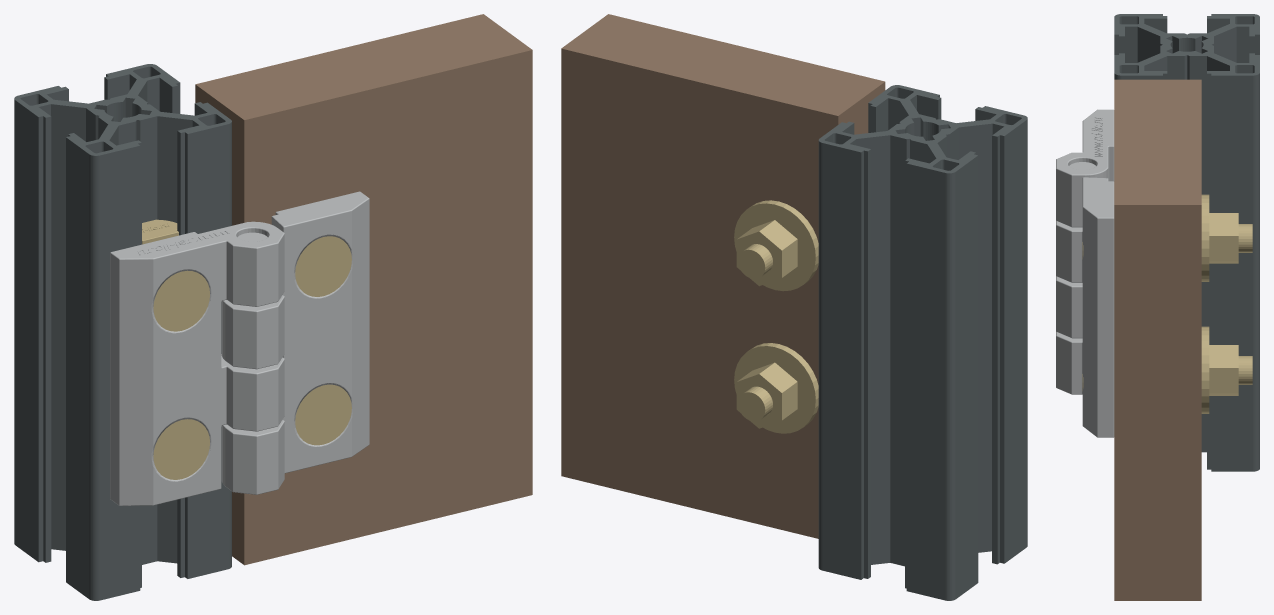
File: hinge-detail.glb
The picture shows the model from 3 angles, left to right: view 1: azimuth 30°, elevation 25°; view 2: azimuth 150°, elevation 25°; view 3: azimuth 270°, elevation 25°; orthographic projection. The views are drawn at different scales.
Visible parts, largest first — view 1: Left-door-face-18, Post-4-23, Left-hinge-1-3025-0, Left-hinge-1-3025-1, Left-profile-bolt-1--15, Left-panel-bolt-1--15, Left-panel-bolt-1-15, Left-profile-bolt-1-15, Left-profile-nut-1-15-5049-1; view 2: Left-door-face-18, Post-4-23, Left-panel-washer-1--15, Left-panel-washer-1-15, Left-panel-locknut-1--15, Left-panel-locknut-1-15, Left-panel-bolt-1--15, Left-panel-bolt-1-15; view 3: Left-door-face-18, Post-4-23, Left-hinge-1-3025-1, Left-hinge-1-3025-0, Left-panel-locknut-1--15, Left-panel-locknut-1-15, Left-panel-washer-1--15, Left-panel-washer-1-15, Left-panel-bolt-1--15, Left-panel-bolt-1-15.
Boxes of the visible parts, box(x1,y1,x2,y2) form: Left-door-face-18: box(195, 14, 532, 565); Post-4-23: box(14, 64, 231, 600); Left-hinge-1-3025-0: box(110, 221, 284, 505); Left-hinge-1-3025-1: box(221, 191, 369, 494); Left-profile-bolt-1--15: box(153, 419, 209, 479); Left-panel-bolt-1--15: box(295, 384, 351, 445); Left-panel-bolt-1-15: box(295, 236, 351, 296); Left-profile-bolt-1-15: box(153, 270, 209, 331); Left-profile-nut-1-15-5049-1: box(142, 219, 178, 244); Left-door-face-18: box(561, 14, 885, 538); Post-4-23: box(818, 85, 1027, 600); Left-panel-washer-1--15: box(734, 343, 818, 433); Left-panel-washer-1-15: box(734, 200, 818, 291); Left-panel-locknut-1--15: box(736, 362, 797, 428); Left-panel-locknut-1-15: box(736, 220, 797, 286); Left-panel-bolt-1--15: box(738, 386, 772, 421); Left-panel-bolt-1-15: box(738, 244, 772, 278); Left-door-face-18: box(1114, 79, 1201, 600); Post-4-23: box(1114, 14, 1259, 471); Left-hinge-1-3025-1: box(1056, 177, 1114, 437); Left-hinge-1-3025-0: box(1056, 109, 1114, 338); Left-panel-locknut-1--15: box(1209, 345, 1238, 395); Left-panel-locknut-1-15: box(1209, 213, 1238, 263); Left-panel-washer-1--15: box(1201, 326, 1209, 413); Left-panel-washer-1-15: box(1201, 194, 1209, 281); Left-panel-bolt-1--15: box(1082, 356, 1252, 390); Left-panel-bolt-1-15: box(1082, 224, 1252, 258).
Bounding box in the file's own units: 0.093 × 0.09 × 0.042.
